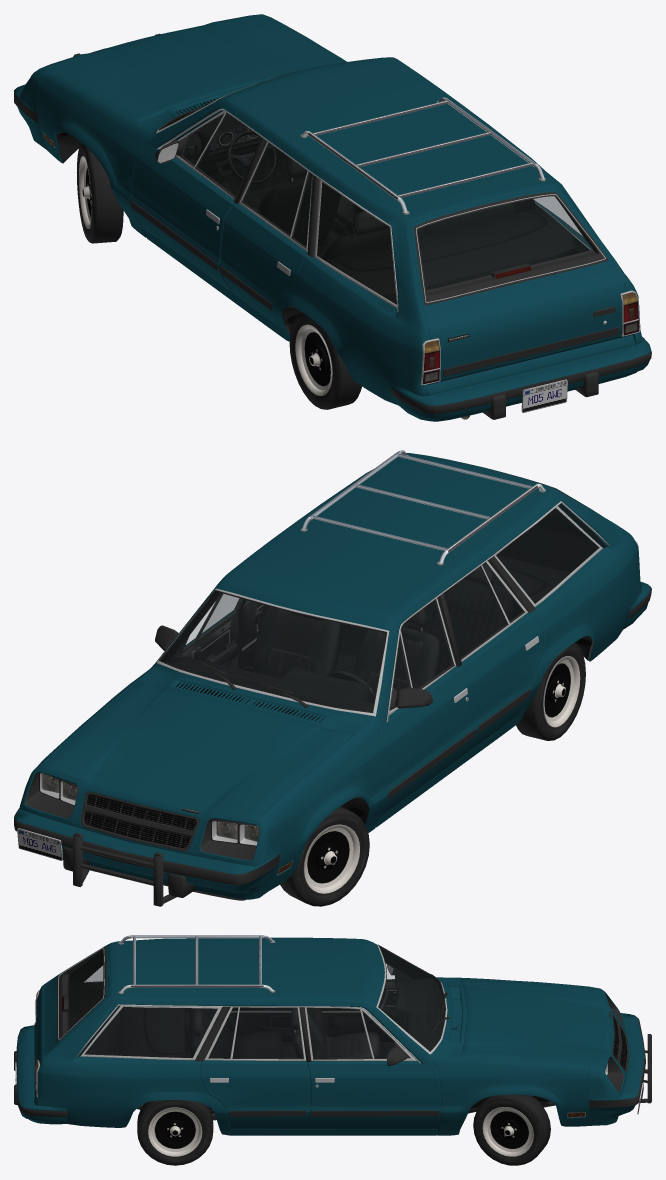
The model's file is wagon.glb.
3 views of the same model, one above another, from view 1: azimuth 30°, elevation 25°; view 2: azimuth 150°, elevation 25°; view 3: azimuth 270°, elevation 25° (orthographic). The views are drawn at different scales.
Parts seen in each view (by area): view 1: body_Body_0, hood_Body_0, Trunkdoor_Body_0, interior, Trunkdoor_glass_UCB_GLASS_CLEAN_0, Door_FL_Body_0, Seats_GEN4DR_INTERIOR_0, bottom, glass_body_UCB_GLASS_CLEAN_0, Trunkdoor_inner_UCB_BOTTOM_0, Door_RL_Body_0, Bumper_rear_Body_0 (+13 smaller); view 2: body_Body_0, hood_Body_0, Windshield_UCB_GLASS_CLEAN_0, Seats_GEN4DR_INTERIOR_0, bottom, Grill_UCB_BOTTOM_0, Door_FL_Body_0, Door_RL_Body_0, Bumper_front_Body_0, glass_body_UCB_GLASS_CLEAN_0, Dashboard_GEN4DR_INTERIOR_0, Door_Glass_RL_UCB_GLASS_CLEAN_0 (+16 smaller); view 3: body_Body_0, hood_Body_0, Door_FR_Body_0, interior, Door_RR_Body_0, bottom, glass_body_UCB_GLASS_CLEAN_0, Seats_GEN4DR_INTERIOR_0, Windshield_UCB_GLASS_CLEAN_0, Door_Glass_RR_UCB_GLASS_CLEAN_0, Door_Glass_FR_UCB_GLASS_CLEAN_0, Dashboard_GEN4DR_INTERIOR_0 (+17 smaller).
Part boxes in pixels (x1=…): body_Body_0: x1=19, y1=14, x2=641, y2=405; hood_Body_0: x1=46, y1=15, x2=342, y2=122; Trunkdoor_Body_0: x1=410, y1=188, x2=626, y2=381; interior: x1=162, y1=111, x2=589, y2=304; Trunkdoor_glass_UCB_GLASS_CLEAN_0: x1=418, y1=196, x2=591, y2=289; Door_FL_Body_0: x1=130, y1=143, x2=235, y2=292; Seats_GEN4DR_INTERIOR_0: x1=253, y1=157, x2=514, y2=260; bottom: x1=43, y1=76, x2=624, y2=380; glass_body_UCB_GLASS_CLEAN_0: x1=317, y1=183, x2=591, y2=304; Trunkdoor_inner_UCB_BOTTOM_0: x1=414, y1=192, x2=621, y2=376; Door_RL_Body_0: x1=219, y1=203, x2=307, y2=328; Bumper_rear_Body_0: x1=390, y1=337, x2=651, y2=421; body_Body_0: x1=19, y1=453, x2=641, y2=890; hood_Body_0: x1=46, y1=681, x2=354, y2=814; Windshield_UCB_GLASS_CLEAN_0: x1=160, y1=591, x2=385, y2=711; Seats_GEN4DR_INTERIOR_0: x1=253, y1=563, x2=515, y2=703; bottom: x1=92, y1=450, x2=610, y2=900; Grill_UCB_BOTTOM_0: x1=25, y1=772, x2=258, y2=860; Door_FL_Body_0: x1=378, y1=665, x2=475, y2=817; Door_RL_Body_0: x1=461, y1=612, x2=544, y2=752; Bumper_front_Body_0: x1=14, y1=808, x2=278, y2=899; glass_body_UCB_GLASS_CLEAN_0: x1=496, y1=508, x2=598, y2=603; Dashboard_GEN4DR_INTERIOR_0: x1=166, y1=656, x2=373, y2=712; Door_Glass_RL_UCB_GLASS_CLEAN_0: x1=444, y1=562, x2=524, y2=658; body_Body_0: x1=34, y1=937, x2=629, y2=1135; hood_Body_0: x1=459, y1=978, x2=603, y2=1066; Door_FR_Body_0: x1=305, y1=1061, x2=441, y2=1128; interior: x1=69, y1=947, x2=444, y2=1058; Door_RR_Body_0: x1=199, y1=1060, x2=310, y2=1128; bottom: x1=36, y1=935, x2=603, y2=1126; glass_body_UCB_GLASS_CLEAN_0: x1=85, y1=966, x2=217, y2=1057; Seats_GEN4DR_INTERIOR_0: x1=189, y1=1008, x2=380, y2=1058; Windshield_UCB_GLASS_CLEAN_0: x1=379, y1=947, x2=444, y2=1050; Door_Glass_RR_UCB_GLASS_CLEAN_0: x1=209, y1=1008, x2=303, y2=1058; Door_Glass_FR_UCB_GLASS_CLEAN_0: x1=307, y1=1008, x2=394, y2=1058; Dashboard_GEN4DR_INTERIOR_0: x1=394, y1=978, x2=444, y2=1050.
Size of the model in its own units: 1.87 by 1.42 by 5.05.
Materials: 9 (8 with a texture image).
